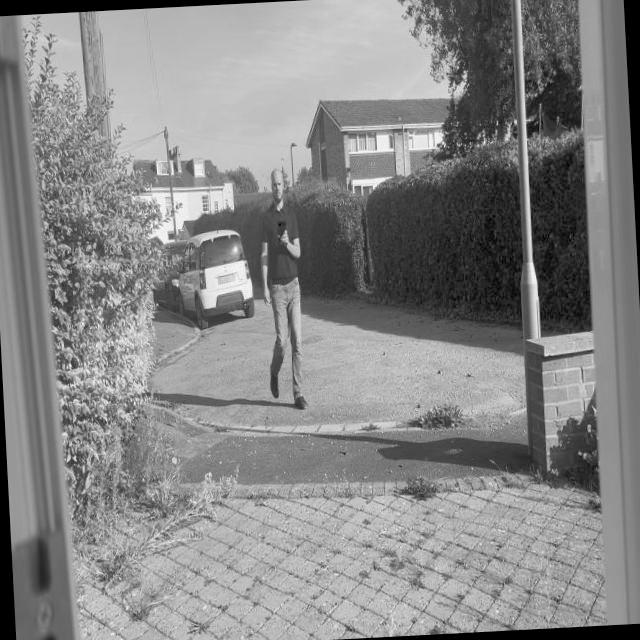phone: (277, 221, 287, 243)
